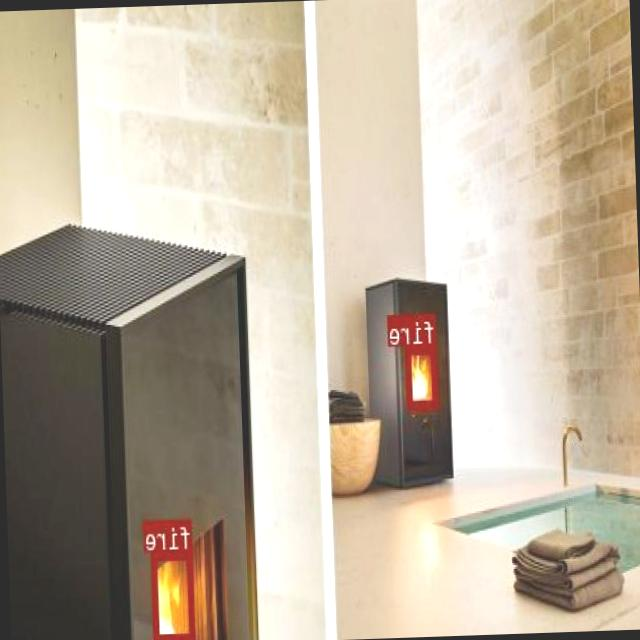fire: (152, 549, 195, 640), (406, 344, 438, 408)
